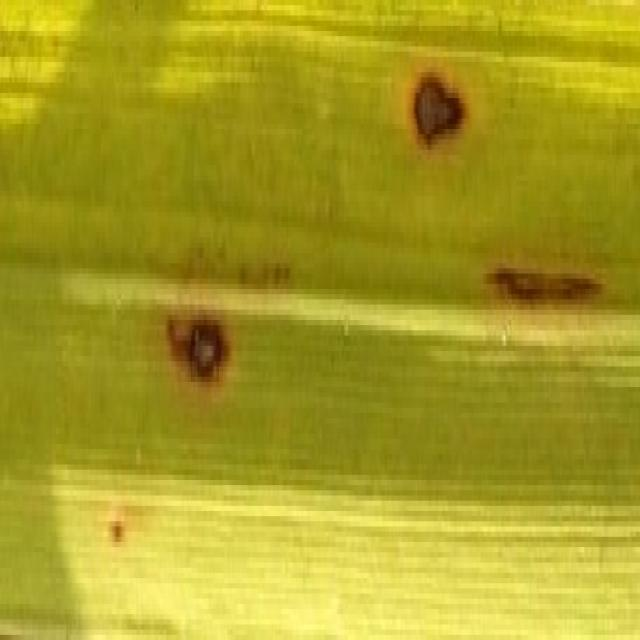Brownspot: (167, 313, 229, 382), (487, 266, 600, 302), (412, 73, 465, 146), (109, 517, 124, 544)
